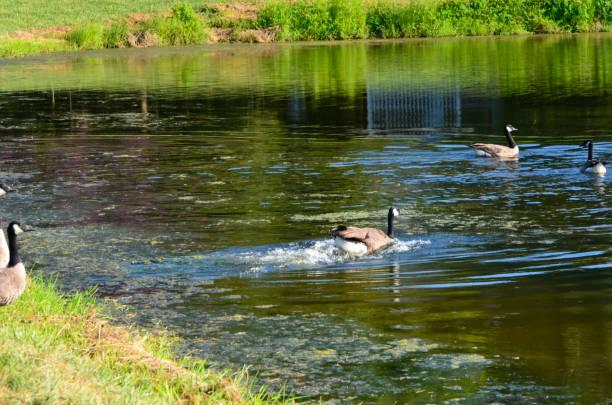Canadian-Goose: (329, 207, 403, 254), (1, 220, 27, 309), (471, 120, 522, 161), (578, 140, 607, 180)
